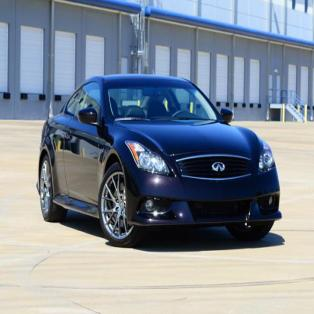Auto: (35, 72, 283, 247)
